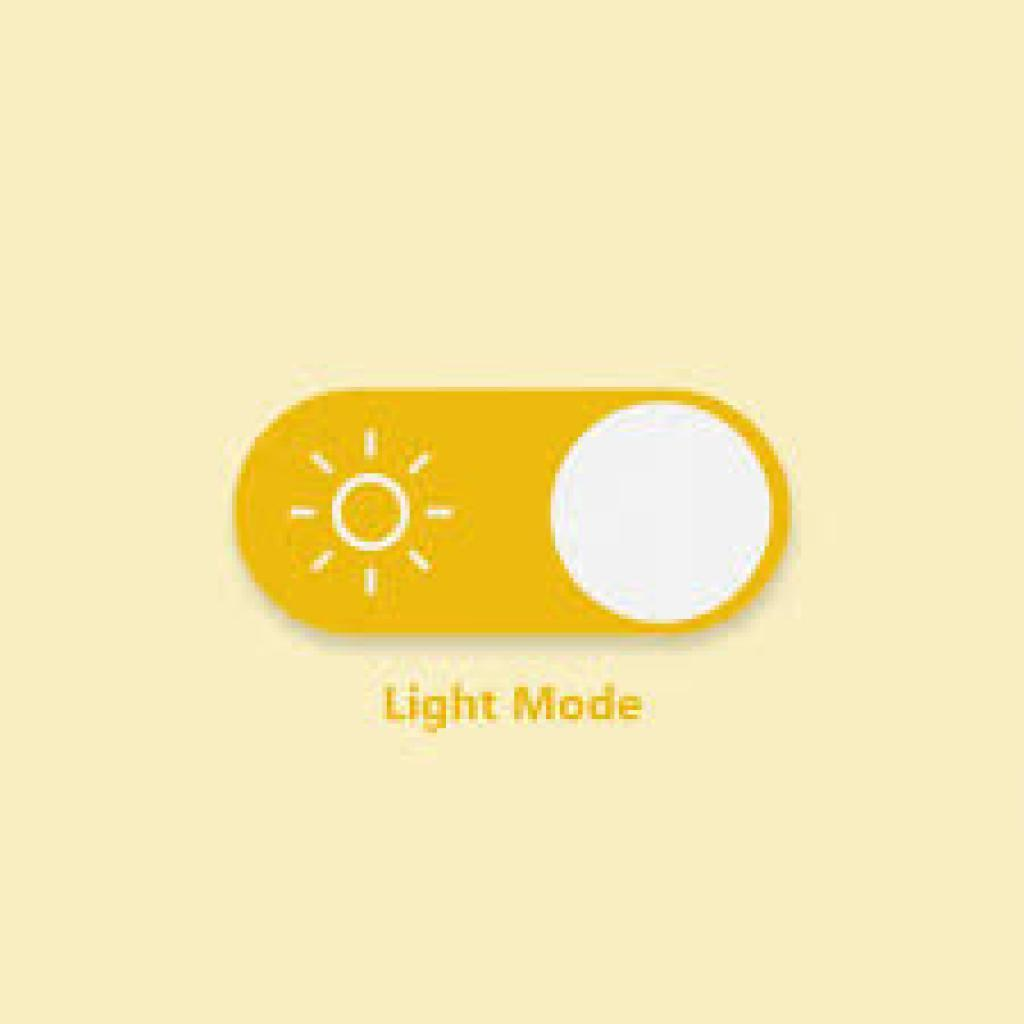switch: (237, 394, 794, 641)
